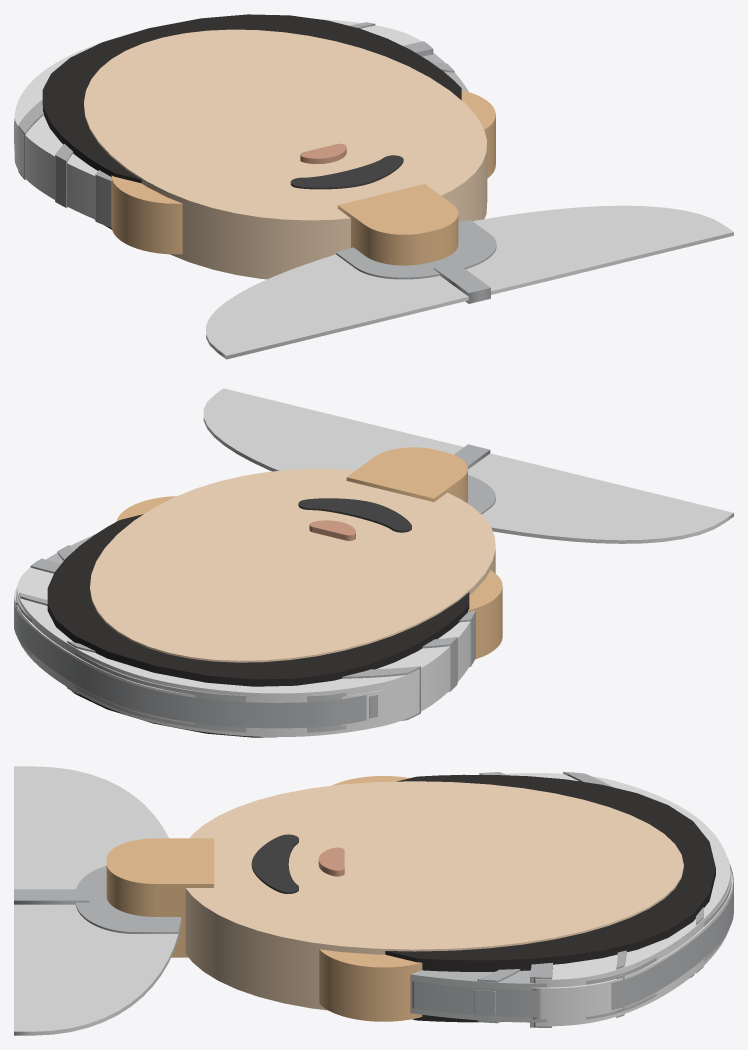
The model's file is emoji_u1f473_1f3fb_200d_2642.glb.
3 renders of one model, top to bottom at view 1: azimuth 30°, elevation 25°; view 2: azimuth 150°, elevation 25°; view 3: azimuth 270°, elevation 25°, orthographic. The views are drawn at different scales.
Visible parts, largest first — view 1: emoji_u1f473_1f3fb_200d_2642; view 2: emoji_u1f473_1f3fb_200d_2642; view 3: emoji_u1f473_1f3fb_200d_2642.
Boxes of the visible parts, x1,y1,x2,y2 form: emoji_u1f473_1f3fb_200d_2642: (14,14,733,359); emoji_u1f473_1f3fb_200d_2642: (14,388,733,737); emoji_u1f473_1f3fb_200d_2642: (14,766,733,1035).
Bounding box in the file's own units: 0.0294 × 0.004 × 0.0337.
